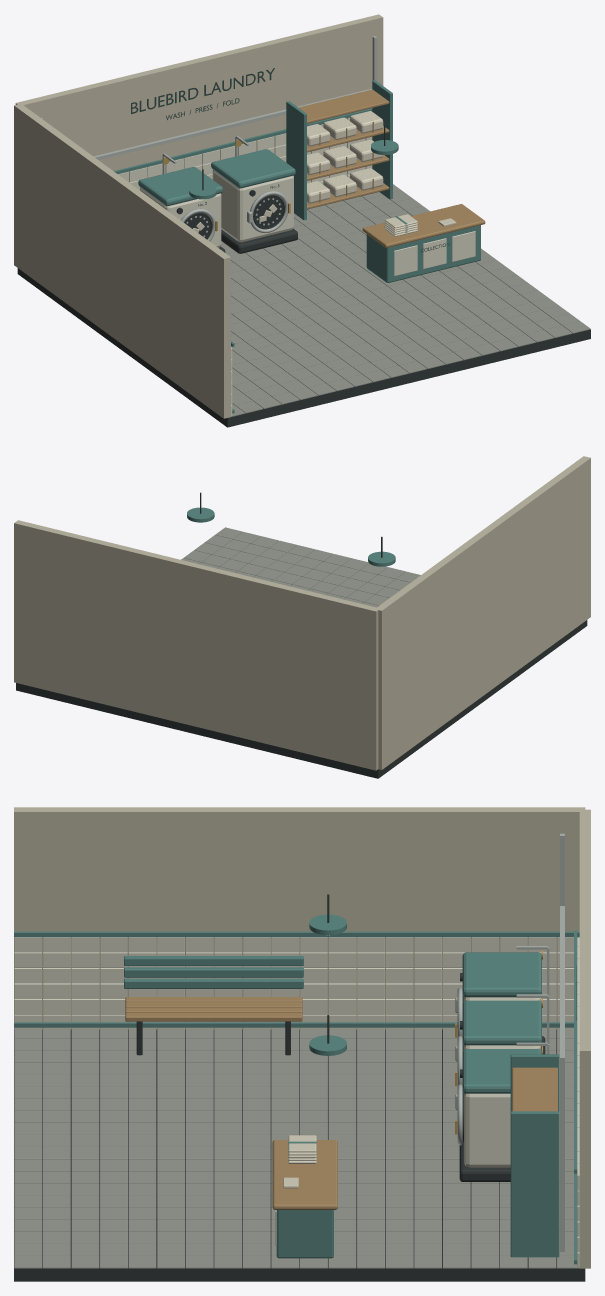
Rendered from interior-laundry.glb.
The picture shows the model from 3 angles, top to bottom: view 1: azimuth 30°, elevation 25°; view 2: azimuth 150°, elevation 25°; view 3: azimuth 270°, elevation 25°; orthographic projection. The views are drawn at different scales.
Visible parts, largest first — view 1: quarry tile, west plaster, rear plaster, washer green crown, floor foundation, washer enamel cabinet, scrubbed folding top, linen inside drum, rear glazed tile, rear steam main, washer polished door rim, rear bluebird sign (+1 smaller); view 2: rear plaster, west plaster, quarry tile, floor foundation, washer green crown; view 3: quarry tile, west plaster, west glazed tile, washer green crown, floor foundation, scrubbed folding top, west green border, rear plaster, washer enamel cabinet, rear steam main, washer polished door rim, rear green border (+2 smaller).
Part boxes in pixels (x1=…): quarry tile: x1=221, y1=184, x2=590, y2=416; west plaster: x1=14, y1=104, x2=230, y2=418; rear plaster: x1=15, y1=14, x2=383, y2=170; washer green crown: x1=138, y1=80, x2=480, y2=282; floor foundation: x1=17, y1=125, x2=590, y2=427; washer enamel cabinet: x1=140, y1=169, x2=475, y2=276; scrubbed folding top: x1=299, y1=89, x2=485, y2=247; linen inside drum: x1=193, y1=111, x2=456, y2=236; rear glazed tile: x1=118, y1=118, x2=372, y2=190; rear steam main: x1=41, y1=36, x2=377, y2=159; washer polished door rim: x1=162, y1=135, x2=287, y2=241; rear bluebird sign: x1=131, y1=68, x2=274, y2=119; rear plaster: x1=14, y1=520, x2=379, y2=770; west plaster: x1=377, y1=456, x2=590, y2=769; quarry tile: x1=181, y1=527, x2=420, y2=607; floor foundation: x1=16, y1=492, x2=587, y2=778; washer green crown: x1=187, y1=507, x2=395, y2=566; quarry tile: x1=14, y1=1029, x2=579, y2=1268; west plaster: x1=14, y1=807, x2=585, y2=1029; west glazed tile: x1=14, y1=937, x2=577, y2=1029; washer green crown: x1=124, y1=914, x2=559, y2=1258; floor foundation: x1=14, y1=894, x2=585, y2=1281; scrubbed folding top: x1=125, y1=997, x2=557, y2=1209; west green border: x1=14, y1=931, x2=579, y2=1027; rear plaster: x1=579, y1=809, x2=590, y2=1268; washer enamel cabinet: x1=275, y1=996, x2=540, y2=1245; rear steam main: x1=560, y1=833, x2=564, y2=1251; washer polished door rim: x1=455, y1=946, x2=549, y2=1145; rear green border: x1=574, y1=930, x2=577, y2=1264.
Size of the model in its own units: 10.1 by 4.45 by 10.1.
11 materials, 1 textured.
